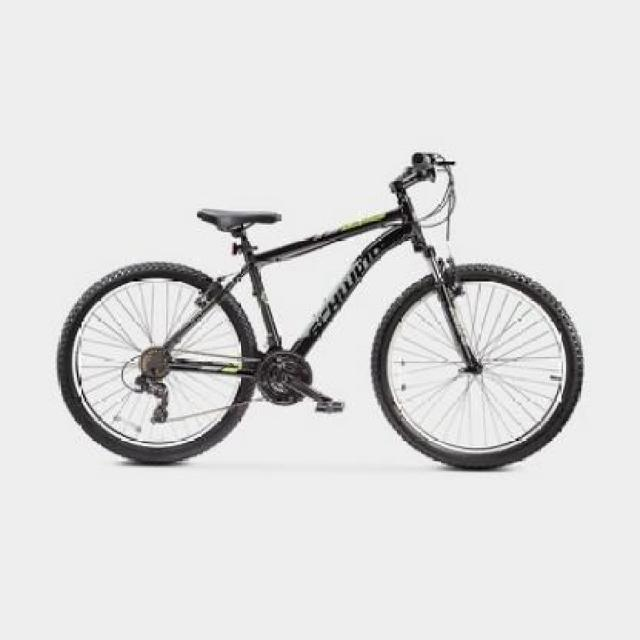bicycle: (44, 151, 587, 477)
